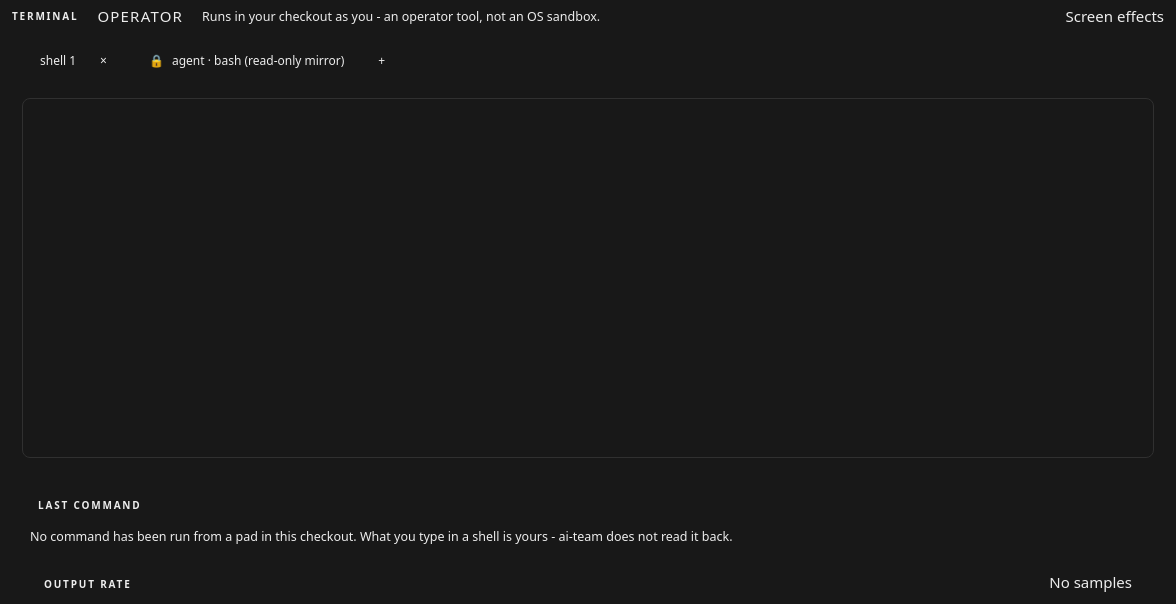
Test: falls back to the standard renderer when WebGL is unavailable
Click the tab "shell 1" at (51, 60), box left=12, top=44, right=90, bottom=76
(page scrolled)
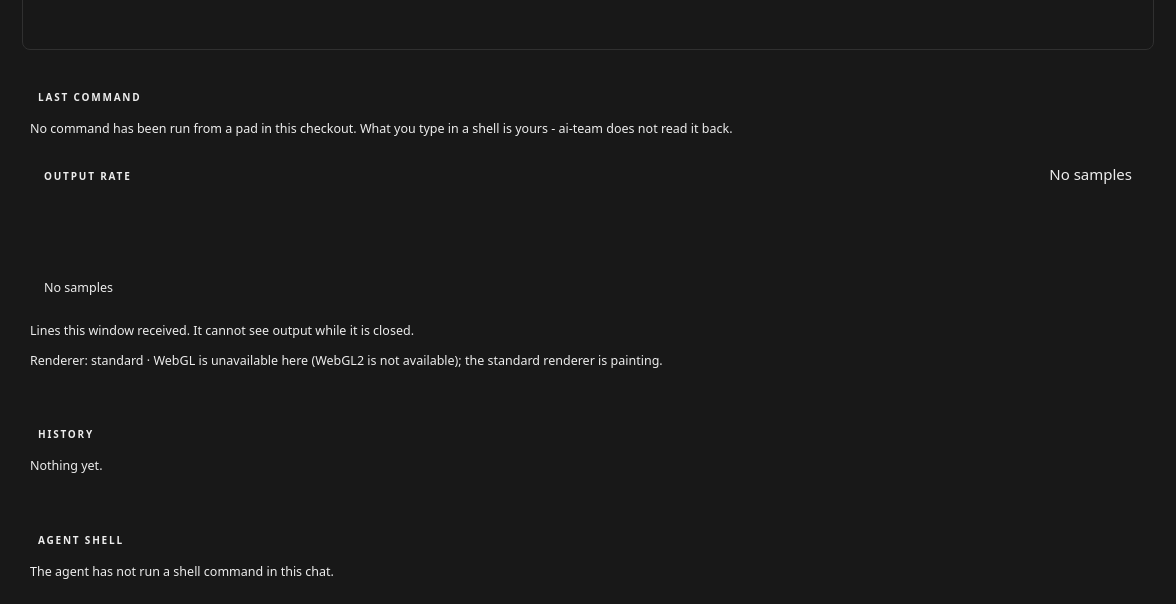
Expected: the text "WebGL is unavailable here" shows "standard renderer", left=144, top=352, right=663, bottom=368
